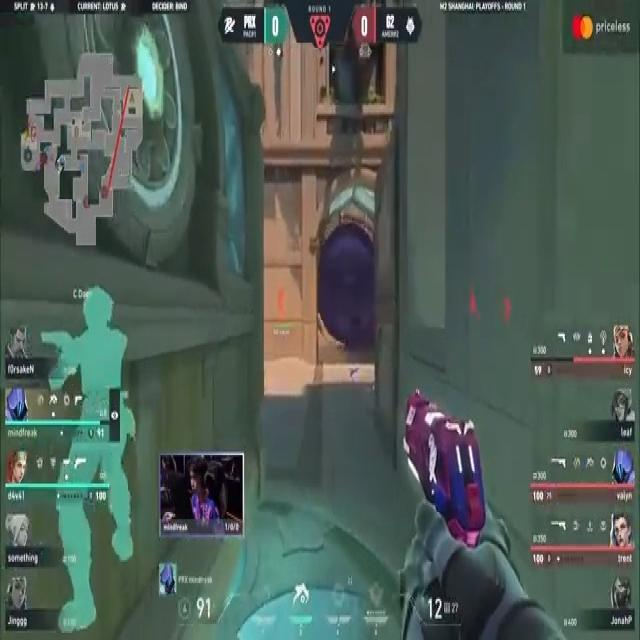ally behind wall: (34, 282, 152, 625)
